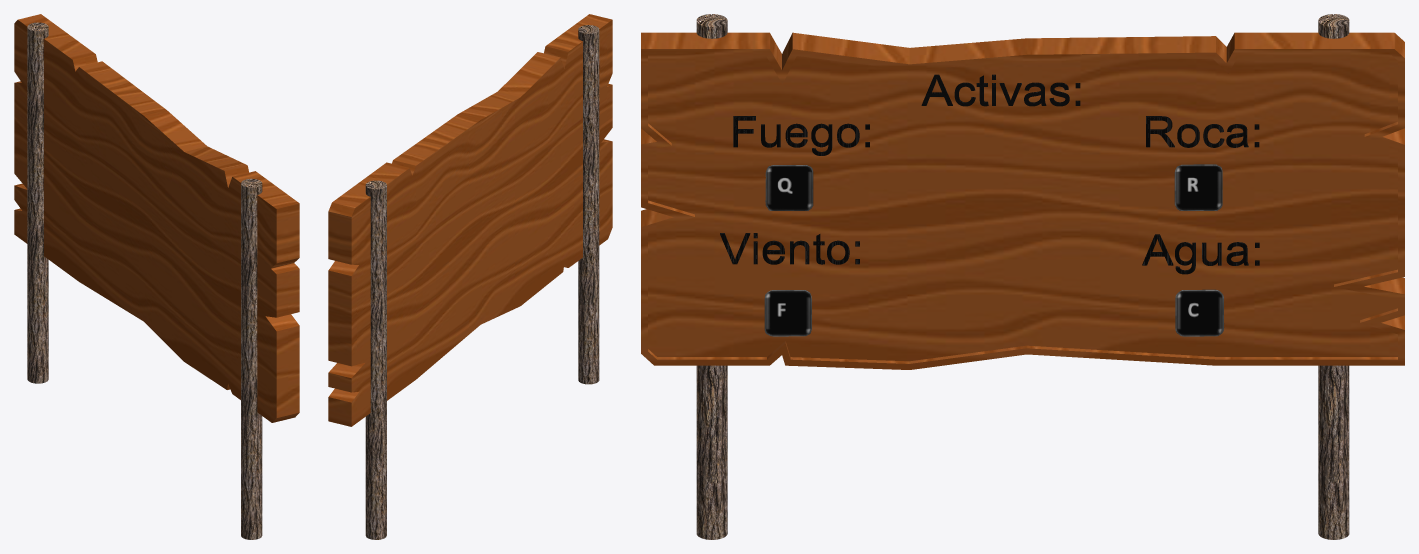
Rendered from CartelActivas.FBX.
3 views of the same model, side by side, from view 1: azimuth 30°, elevation 25°; view 2: azimuth 150°, elevation 25°; view 3: azimuth 270°, elevation 25° (orthographic). The views are drawn at different scales.
Visible parts, largest first — view 1: CartelActivas; view 2: CartelActivas; view 3: CartelActivas, LetrasActivas.
Part boxes in pixels (<box>): CartelActivas: <box>14,14,299,539</box>; CartelActivas: <box>328,14,612,539</box>; CartelActivas: <box>641,14,1404,539</box>; LetrasActivas: <box>720,74,1259,274</box>.
Bounding box in the file's own units: 107 × 1092 × 1474.
Materials: 8 (8 with a texture image).
